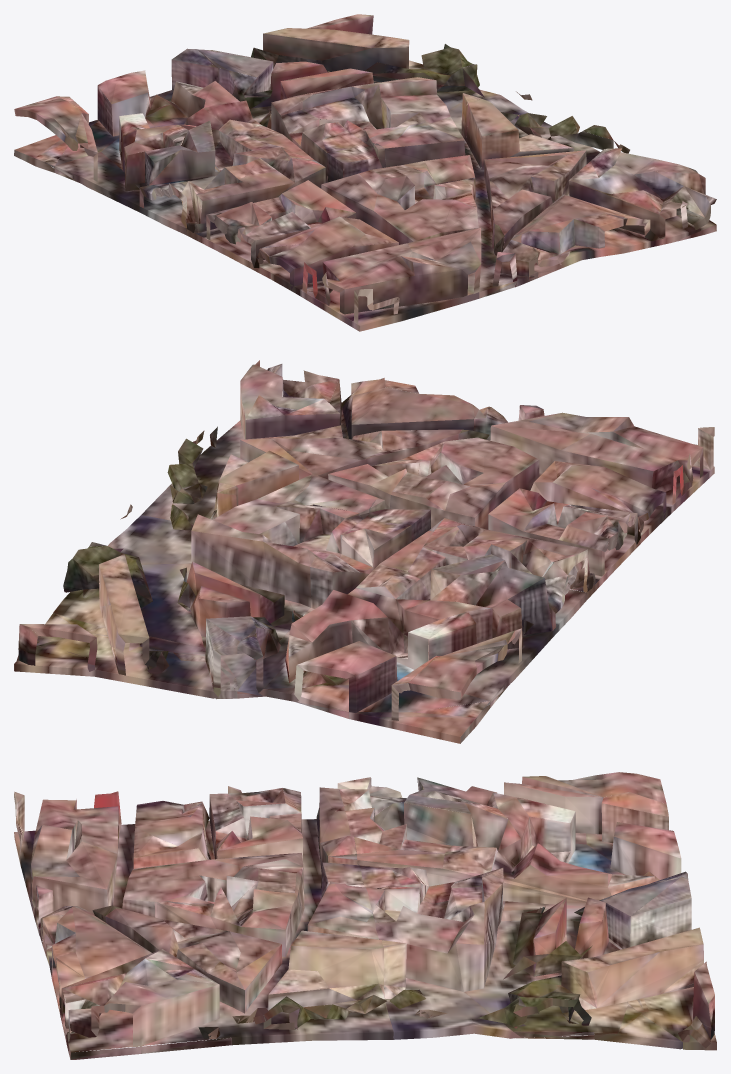
The picture shows the model from 3 angles, top to bottom: view 1: azimuth 30°, elevation 25°; view 2: azimuth 150°, elevation 25°; view 3: azimuth 270°, elevation 25°; orthographic projection. The views are drawn at different scales.
Visible parts, largest first — view 1: Mesh_0; view 2: Mesh_0; view 3: Mesh_0.
Boxes of the visible parts, bbox=[...] form: Mesh_0: bbox=[14, 14, 716, 331]; Mesh_0: bbox=[14, 360, 714, 743]; Mesh_0: bbox=[14, 772, 716, 1059].
Bounding box in the file's own units: 266 × 45.7 × 330.
2 materials, 2 textured.
